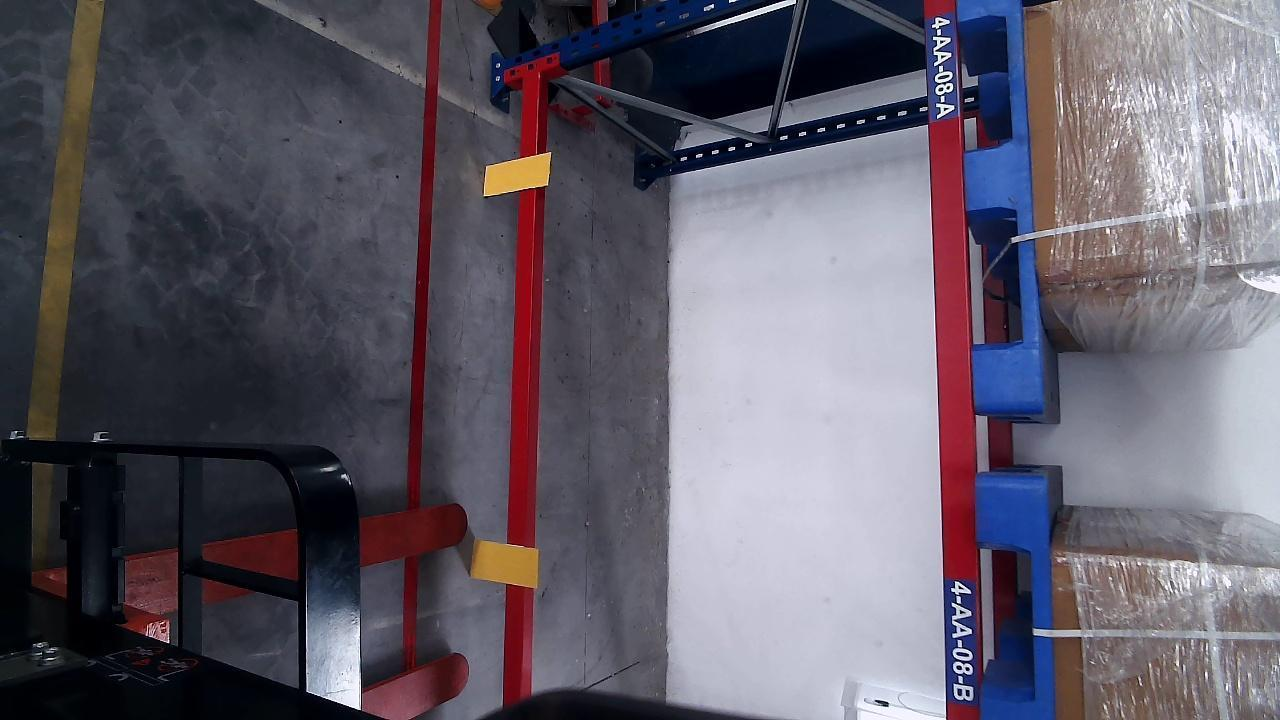red_line: (404, 3, 445, 504)
yellow_line: (20, 0, 107, 436)
